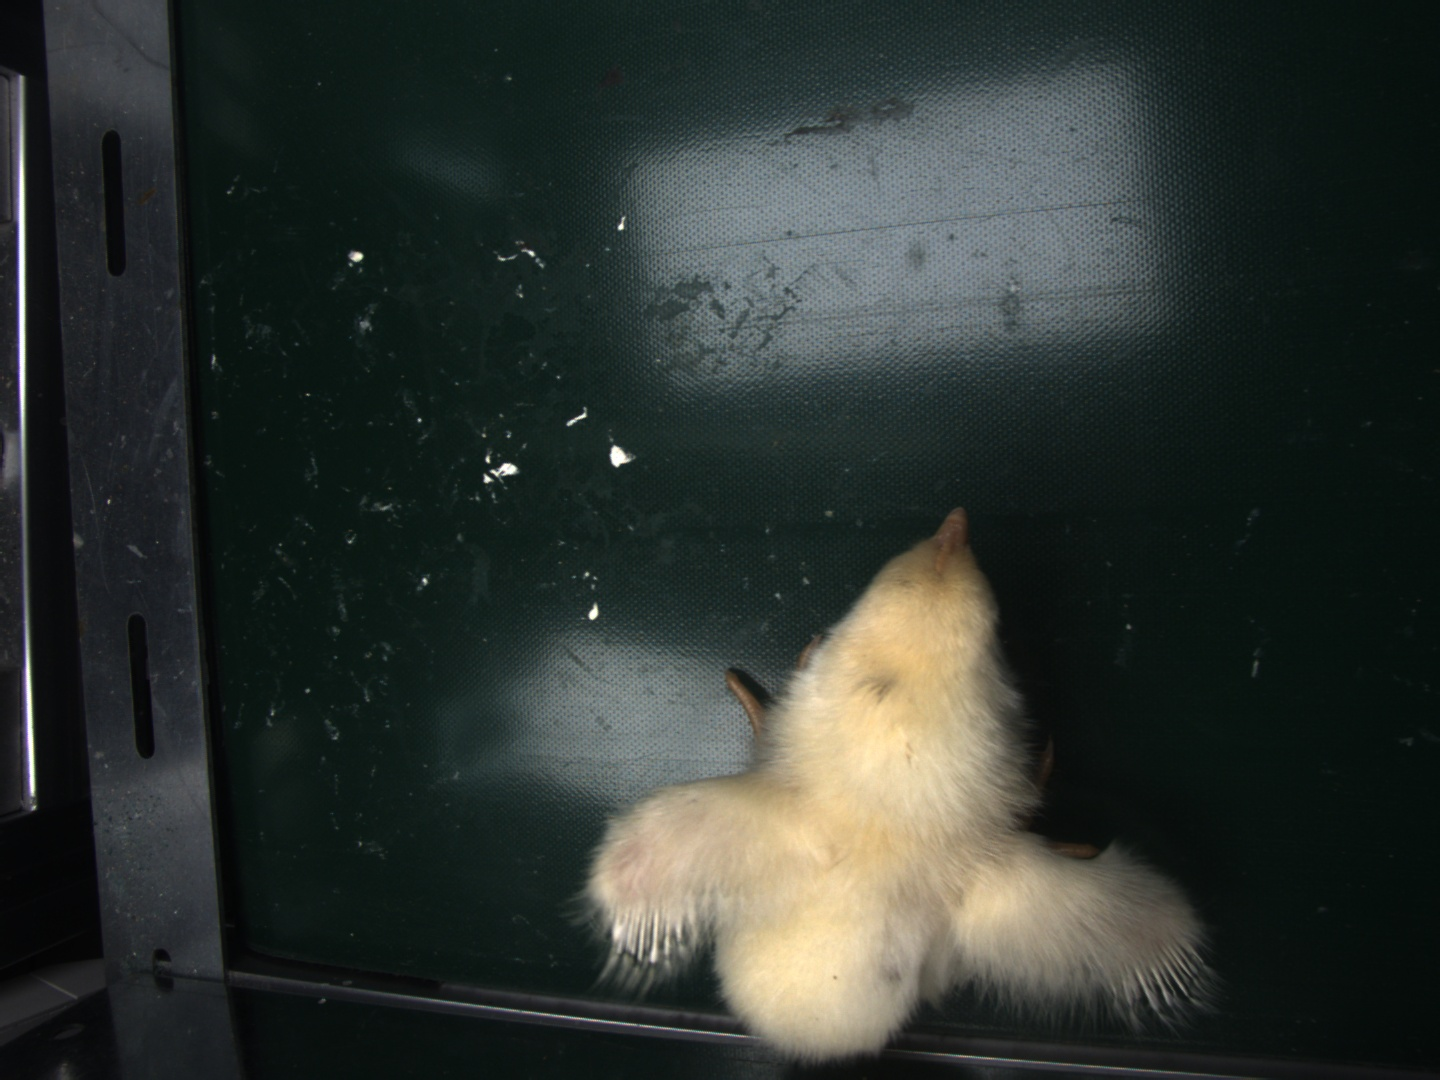male: (1111, 940, 1208, 1010), (610, 898, 691, 964)
